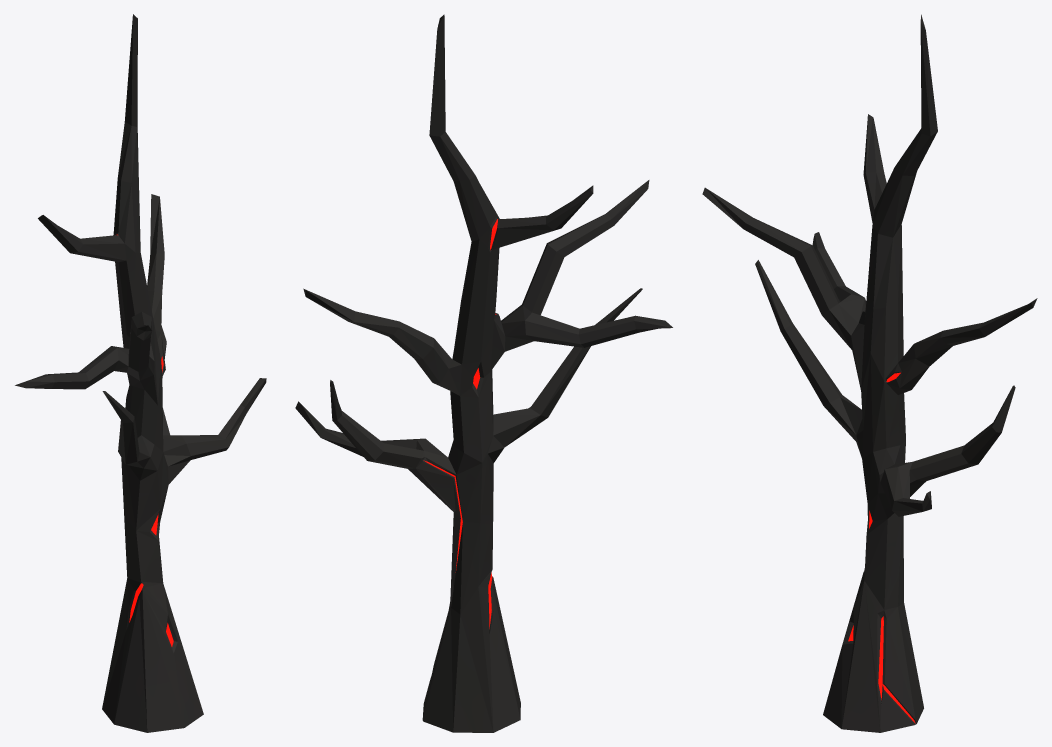
The model's file is Tree13.fbx.
The picture shows the model from 3 angles, left to right: view 1: azimuth 30°, elevation 25°; view 2: azimuth 150°, elevation 25°; view 3: azimuth 270°, elevation 25°; orthographic projection. The views are drawn at different scales.
Visible parts, largest first — view 1: Tree07.002_burned.001; view 2: Tree07.002_burned.001; view 3: Tree07.002_burned.001.
Part boxes in pixels (x1,y1,x2,y2): Tree07.002_burned.001: [15, 14, 266, 732]; Tree07.002_burned.001: [295, 14, 672, 732]; Tree07.002_burned.001: [702, 14, 1037, 732].
Size of the model in its own units: 275 by 584 by 254.
